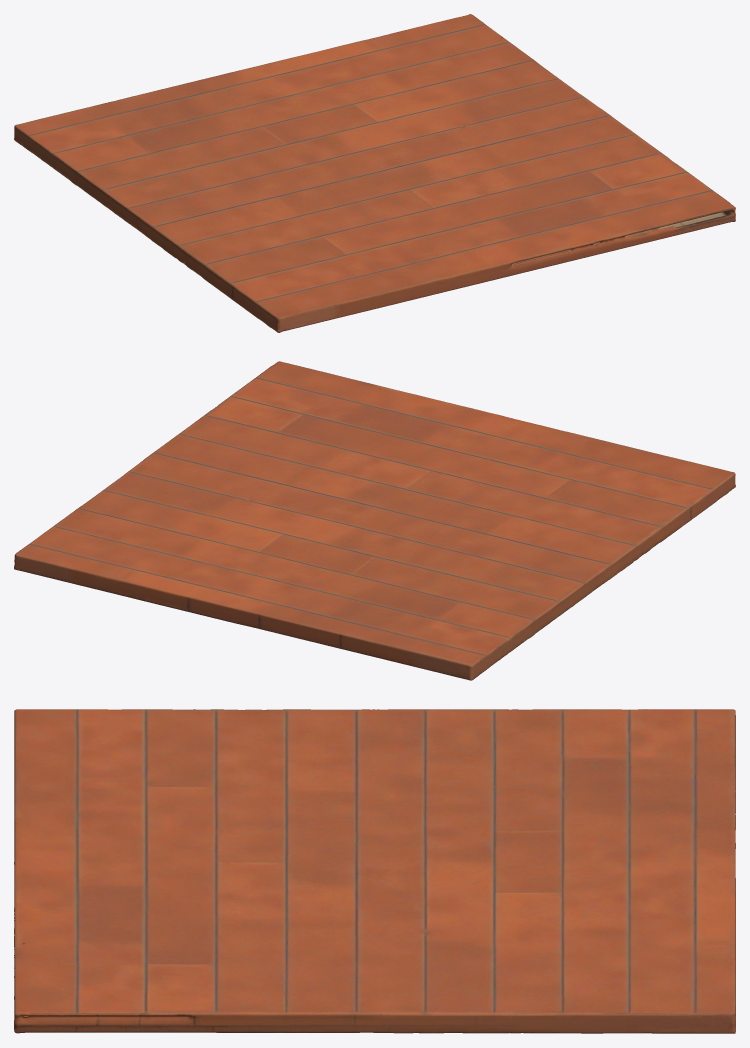
File: Meshy_AI_Terracotta_Brick_Floo_0714035924_texture.fbx
The picture shows the model from 3 angles, top to bottom: view 1: azimuth 30°, elevation 25°; view 2: azimuth 150°, elevation 25°; view 3: azimuth 270°, elevation 25°; orthographic projection. The views are drawn at different scales.
Visible parts, largest first — view 1: Mesh_0; view 2: Mesh_0; view 3: Mesh_0.
Part boxes in pixels (bbox=[...]): Mesh_0: bbox=[14, 14, 735, 332]; Mesh_0: bbox=[14, 361, 735, 680]; Mesh_0: bbox=[14, 709, 735, 1033].
Size of the model in its own units: 200 by 6.36 by 200.
Materials: 1 (1 with a texture image).
